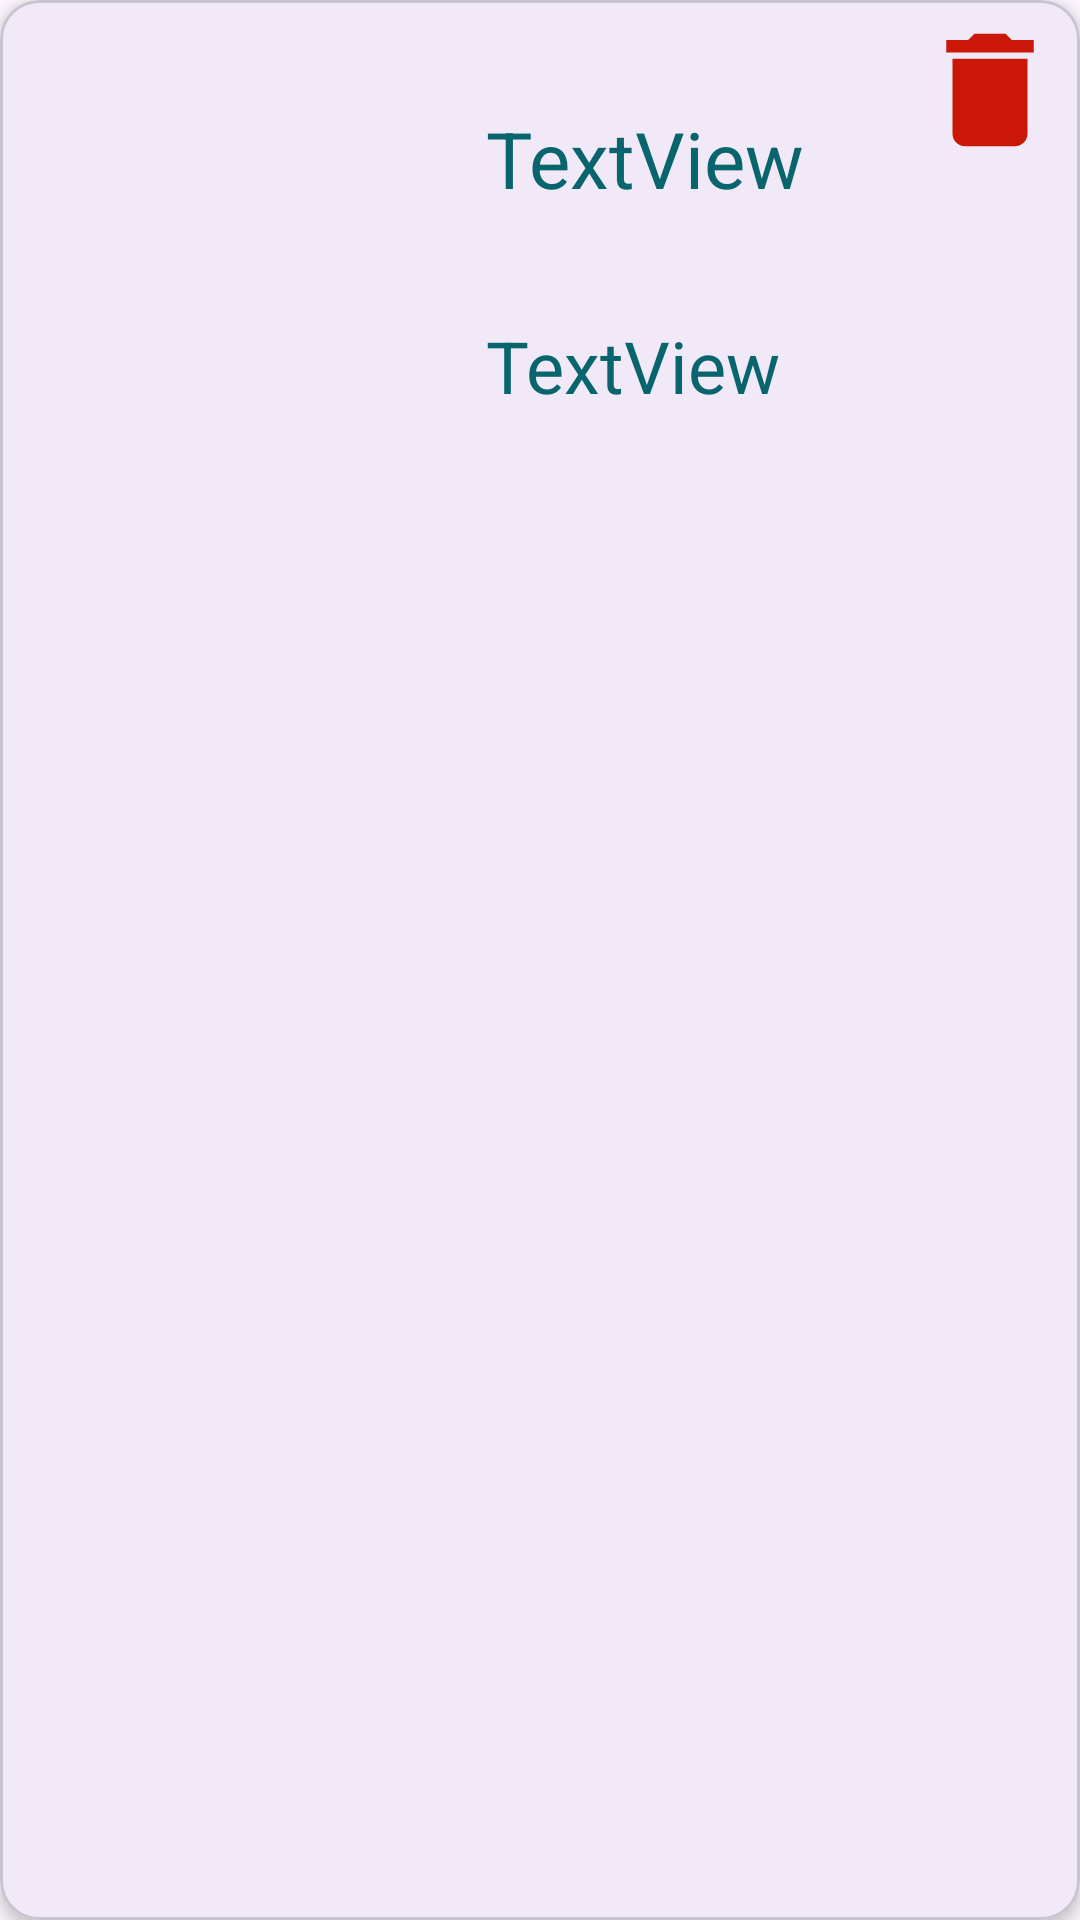

Locate icon controls on the screen. Image size 1080px×1920px, boxes as box(x1, y1, x2, y2).
delete: box(946, 33, 1034, 147)
